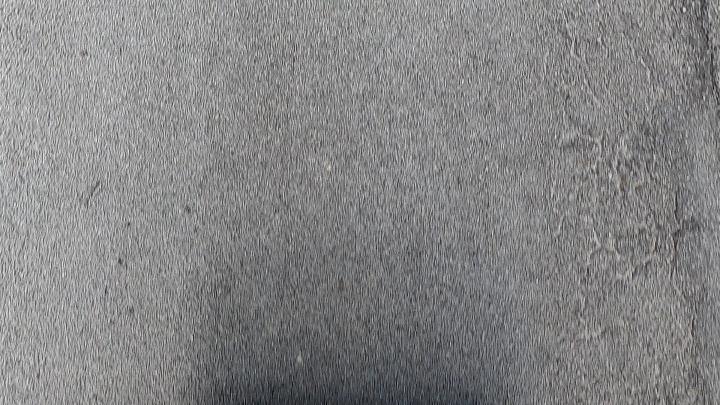Crack: (564, 0, 720, 315), (607, 147, 694, 308), (696, 0, 719, 118), (566, 114, 608, 154), (590, 228, 629, 263), (637, 57, 651, 81)
